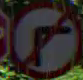Don't turn right: (10, 4, 80, 79)
